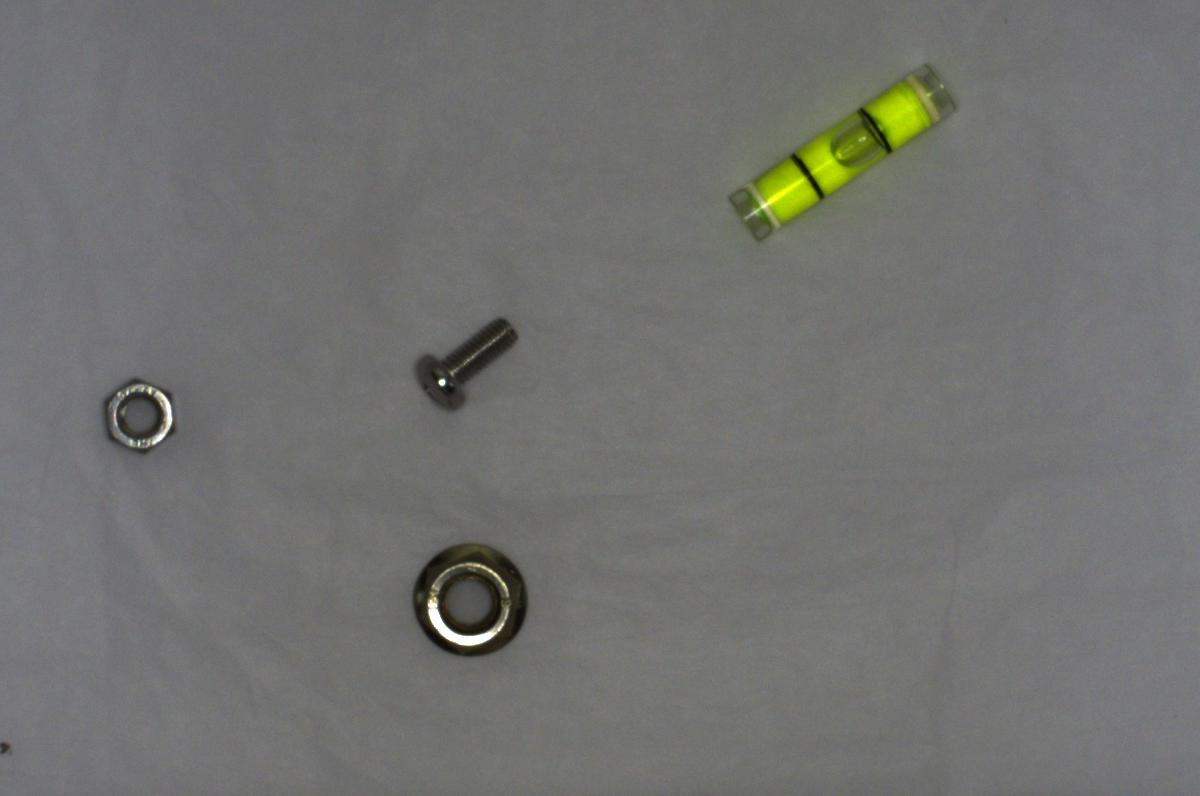Flange nut: (395, 529, 544, 670)
Hexagon nut: (99, 373, 184, 456)
Horizontal bubble: (714, 62, 961, 243)
Round head screw: (411, 307, 521, 419)
